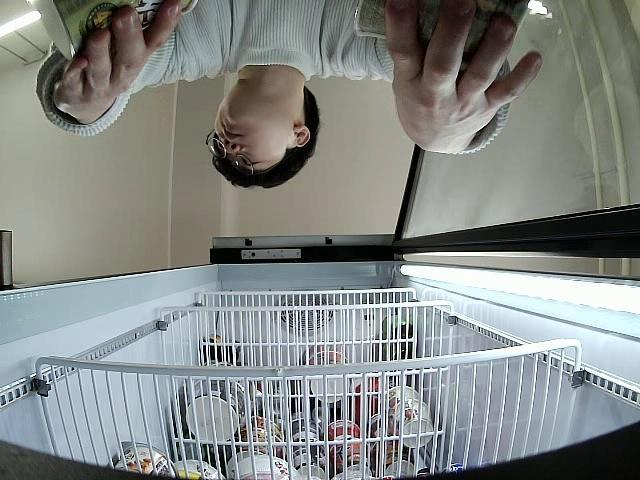03_chapagetti_L: (32, 0, 198, 61), (353, 1, 528, 48)
